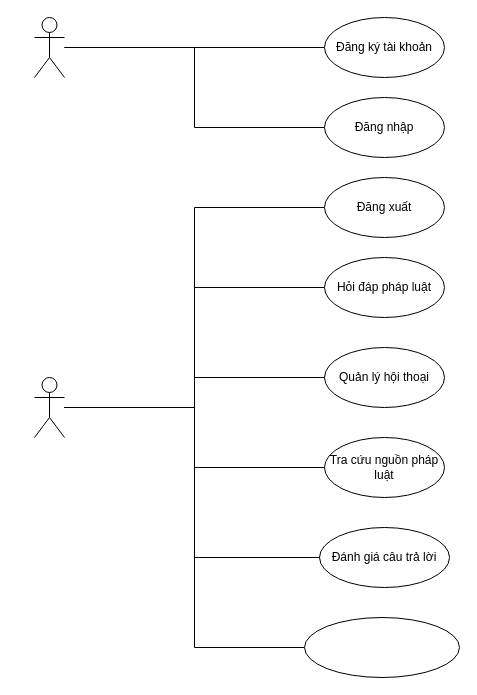
Some shapes in this 477 by 695 pixel diagram are drawn without their labels. Each missing label, with the centre of its shape:
"Khách" goes at (49,47).
"Người dùng" goes at (49,407).
"Quản lý nội dung đã lưu" goes at (382,647).
